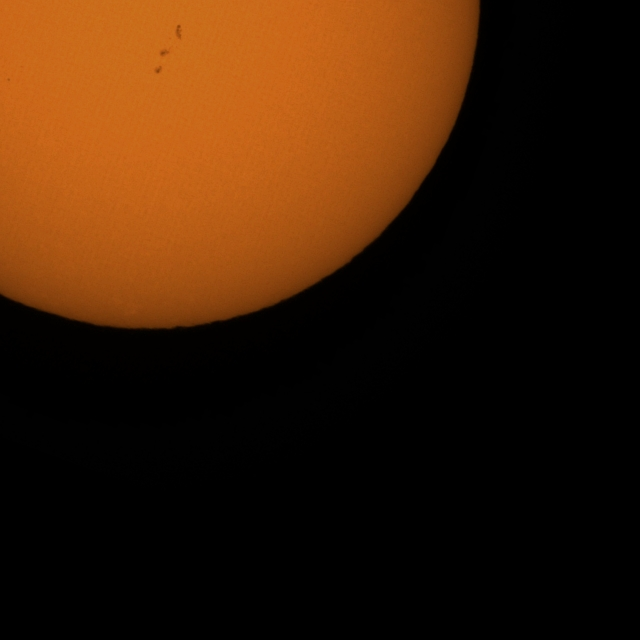sunspot: (160, 23, 182, 50), (156, 46, 170, 66), (174, 24, 183, 42), (159, 47, 170, 57), (154, 65, 163, 75), (6, 77, 11, 83)
